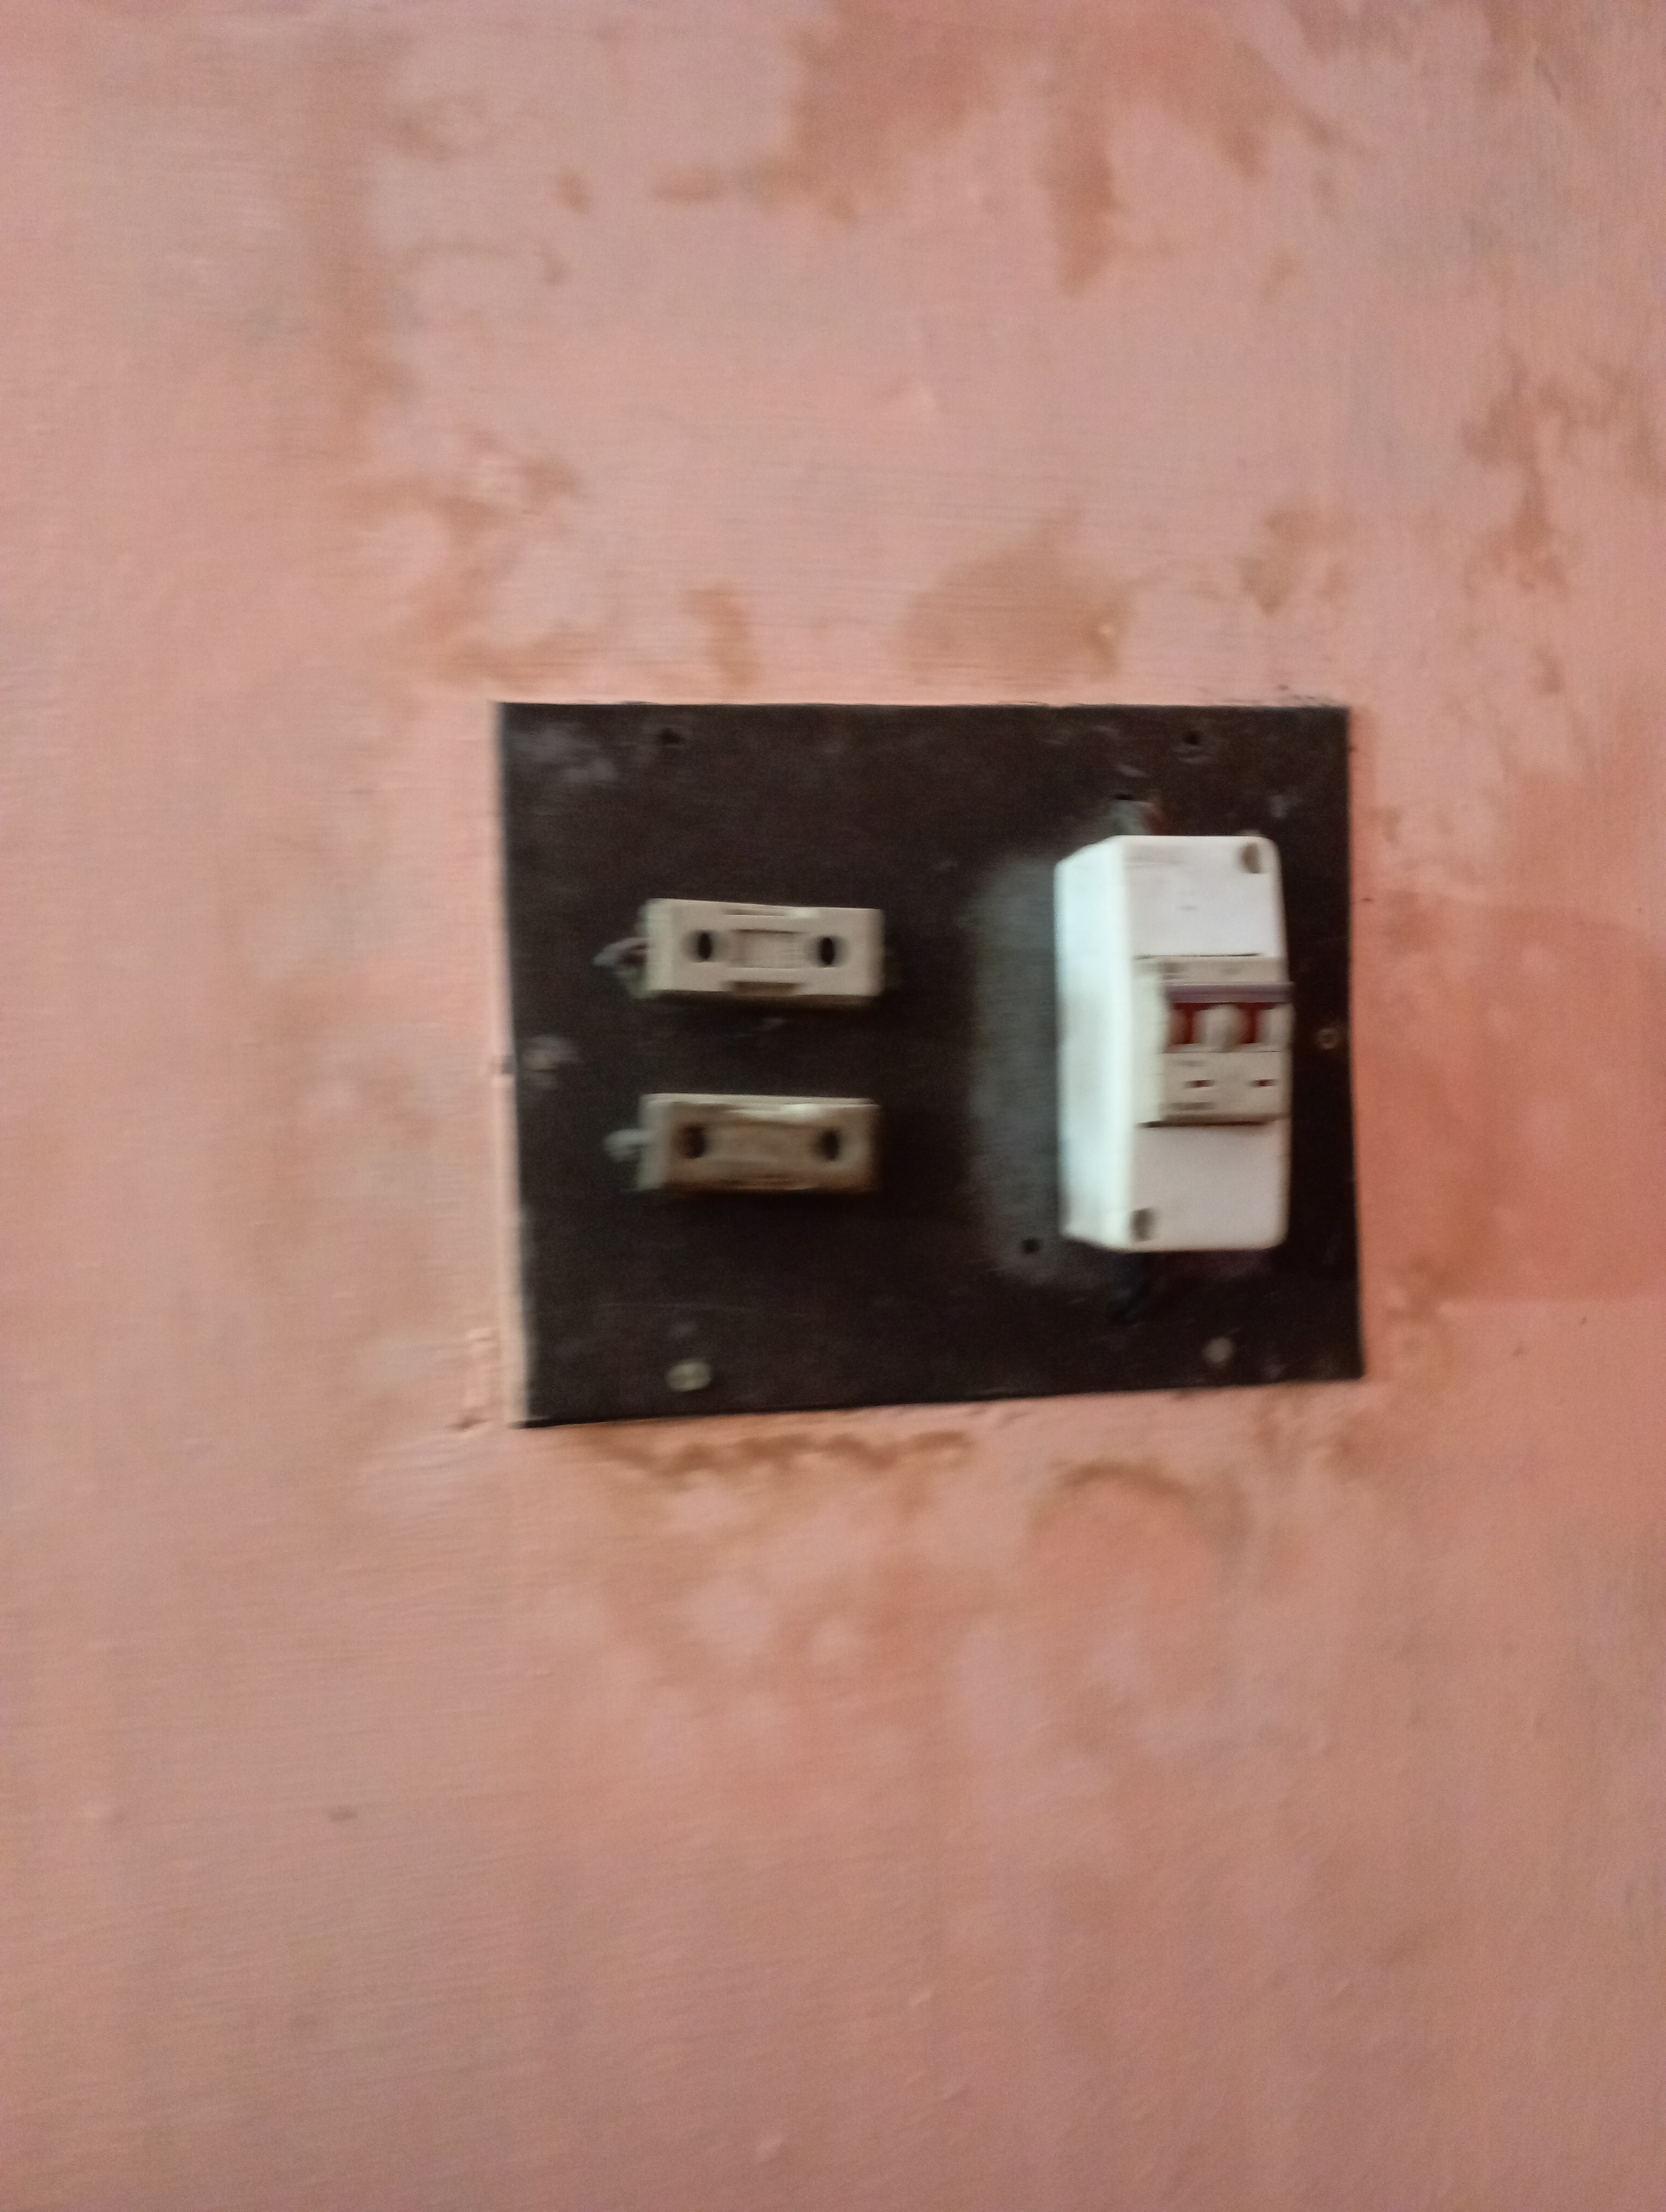ciruit_breaker: (1013, 838, 1344, 1264)
fuse: (590, 1070, 900, 1200), (586, 881, 894, 1005)
